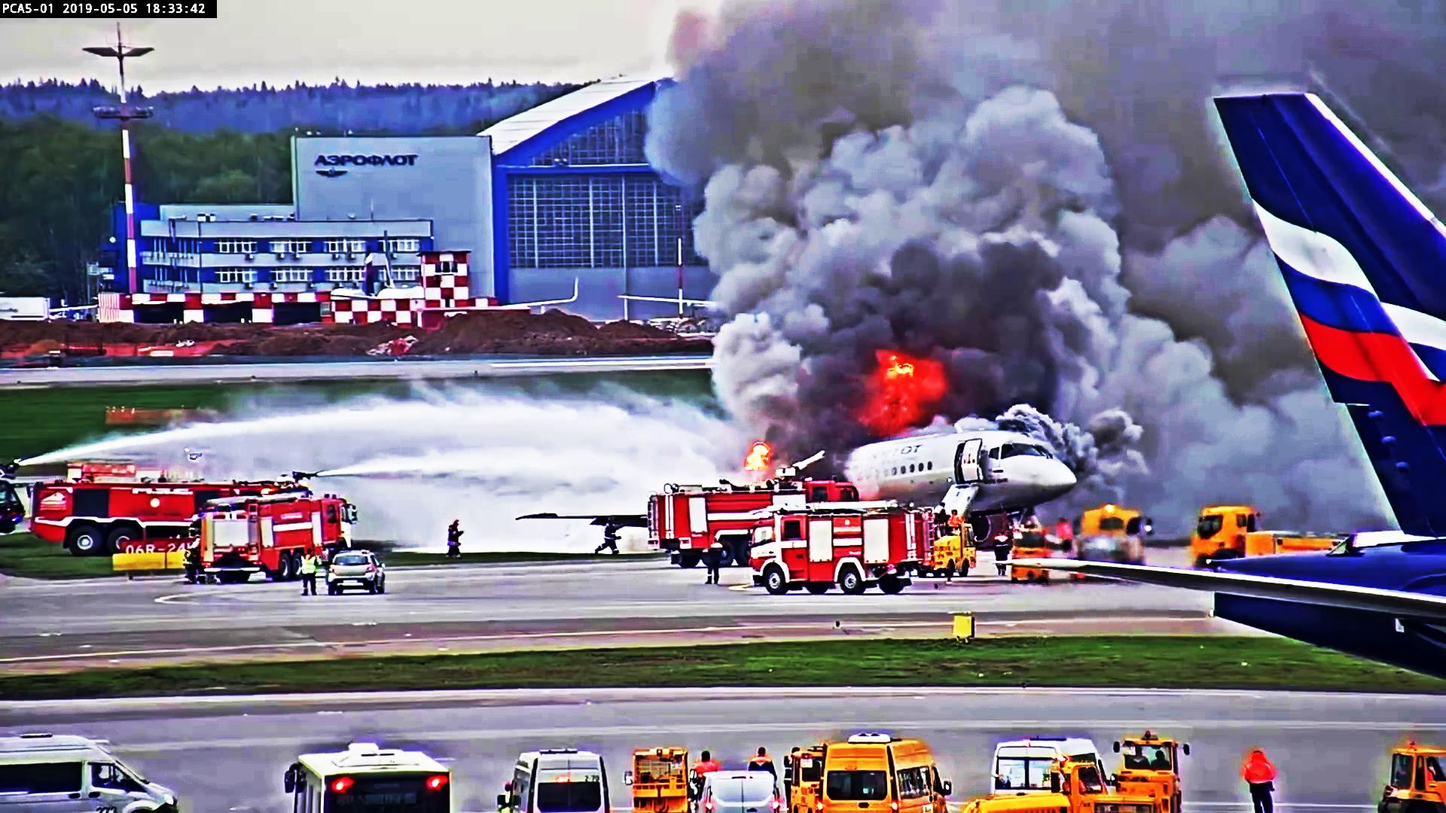fire: (882, 356, 927, 416), (729, 433, 778, 476)
smoke: (697, 12, 1118, 360)
